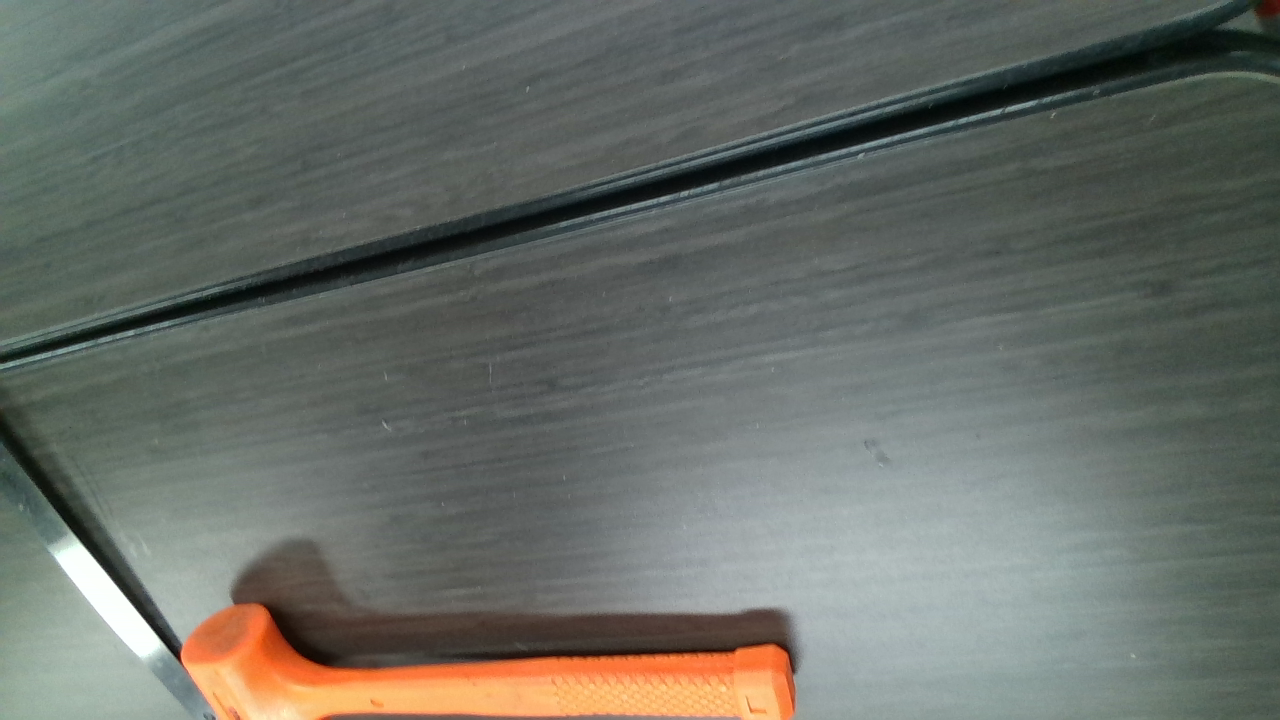Orange Hammer: (187, 605, 797, 719)
